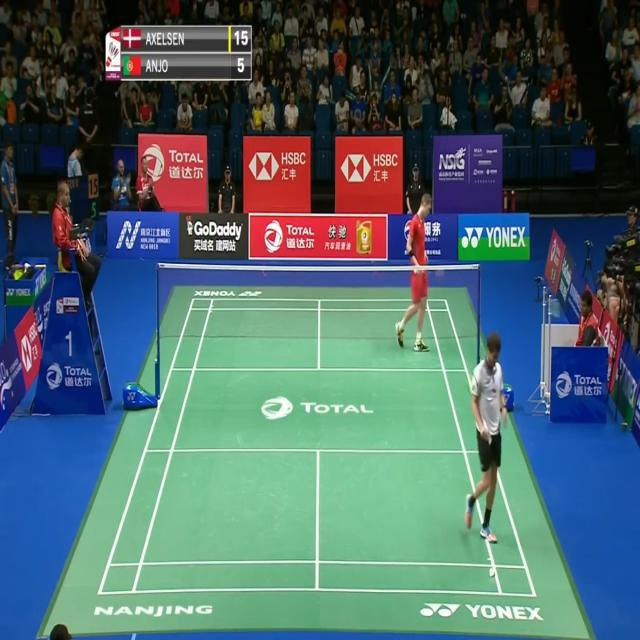Player1: (456, 330, 514, 548)
Player2: (386, 174, 450, 366)
